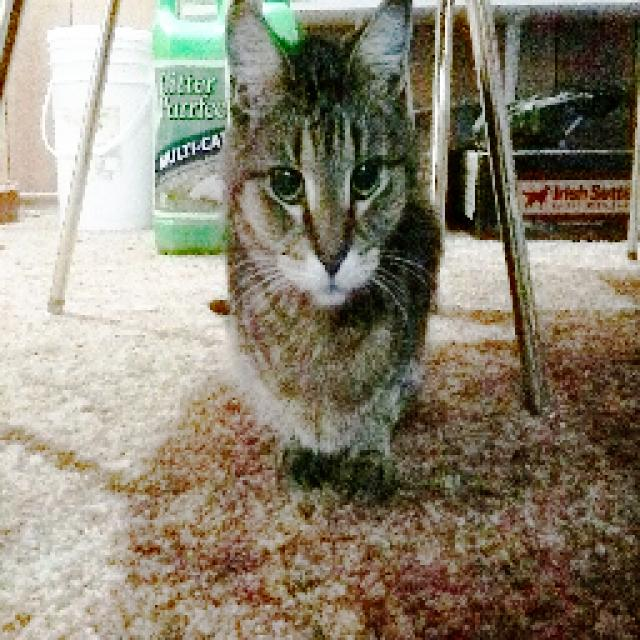cat: (209, 0, 444, 498)
